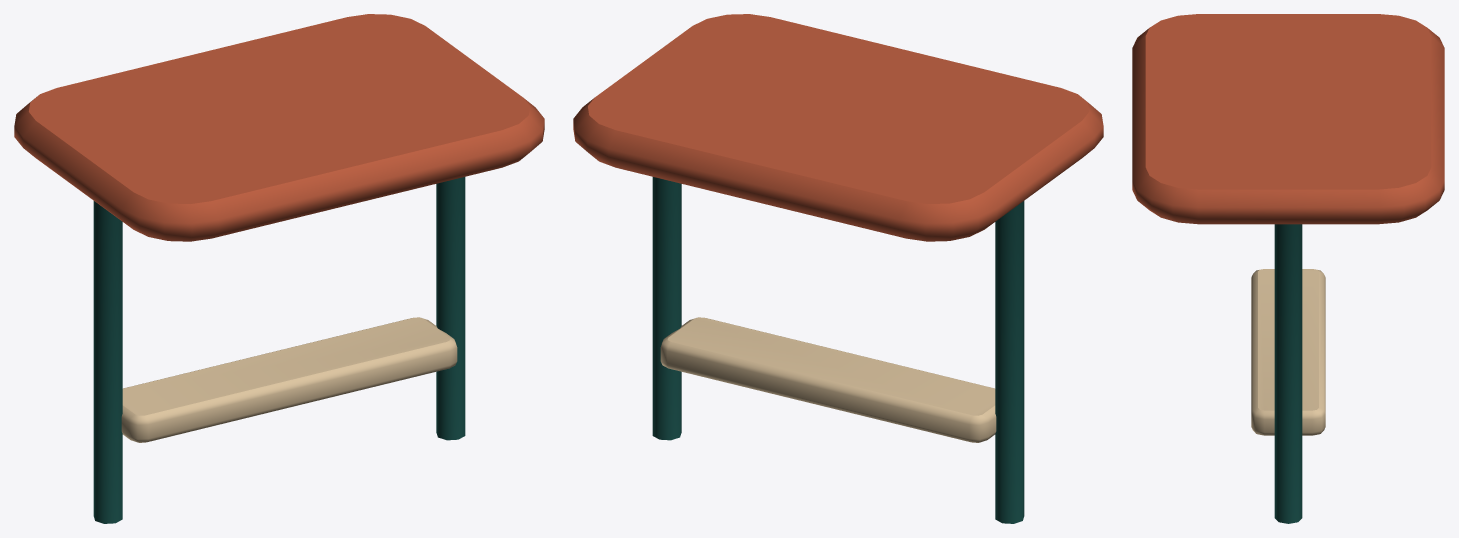
The model's file is upgrade_porch.glb.
3 views of the same model, side by side, from view 1: azimuth 30°, elevation 25°; view 2: azimuth 150°, elevation 25°; view 3: azimuth 270°, elevation 25° (orthographic). The views are drawn at different scales.
Parts seen in each view (by area): view 1: UpgradePorch; view 2: UpgradePorch; view 3: UpgradePorch.
Part boxes in pixels (x1,y1,x2,y2): UpgradePorch: [14, 14, 544, 523]; UpgradePorch: [573, 14, 1103, 523]; UpgradePorch: [1132, 14, 1444, 523].
Size of the model in its own units: 2.08 by 1.76 by 1.47.
